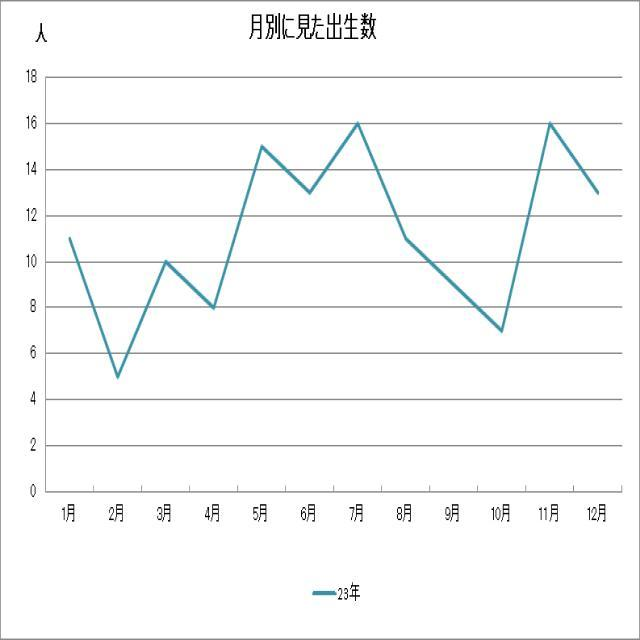axis: (42, 481, 631, 496), (38, 55, 51, 503)
line: (63, 113, 603, 385)
